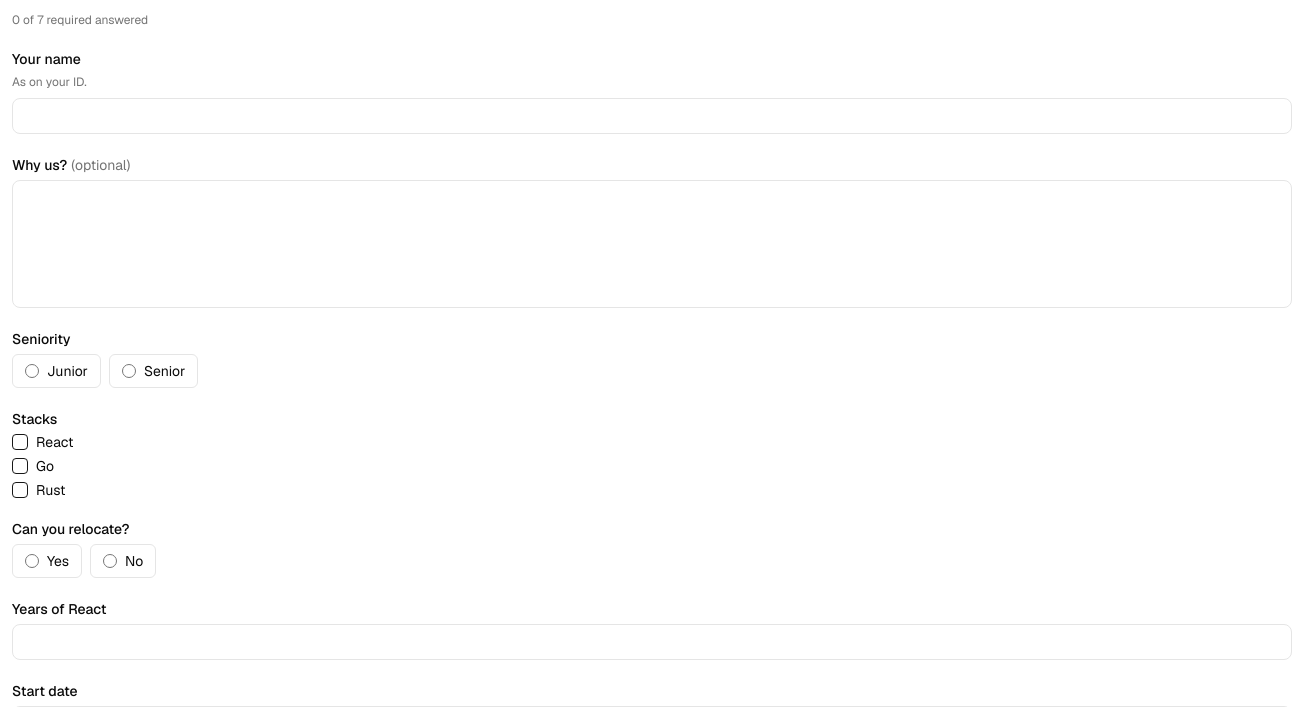
Test: ApplicationFields (AF-REQ-006) › shows progress on long forms
Expected: the text "0 of 7 required answered" is shown, x1=12 y1=12 x2=148 y2=28
In the field labelled "Your name": (652, 116) x1=12 y1=98 x2=1292 y2=134, type "Ada"
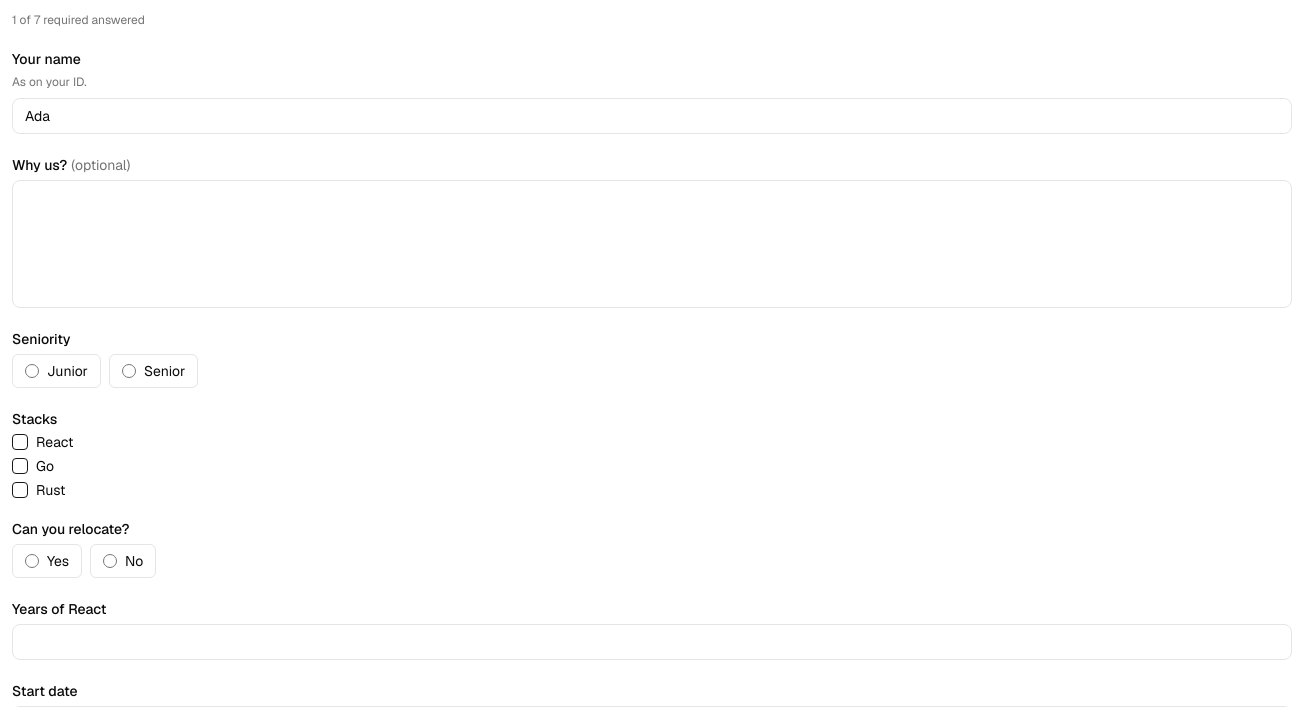
Result: the text "1 of 7 required answered" is shown at x1=12 y1=12 x2=145 y2=28
